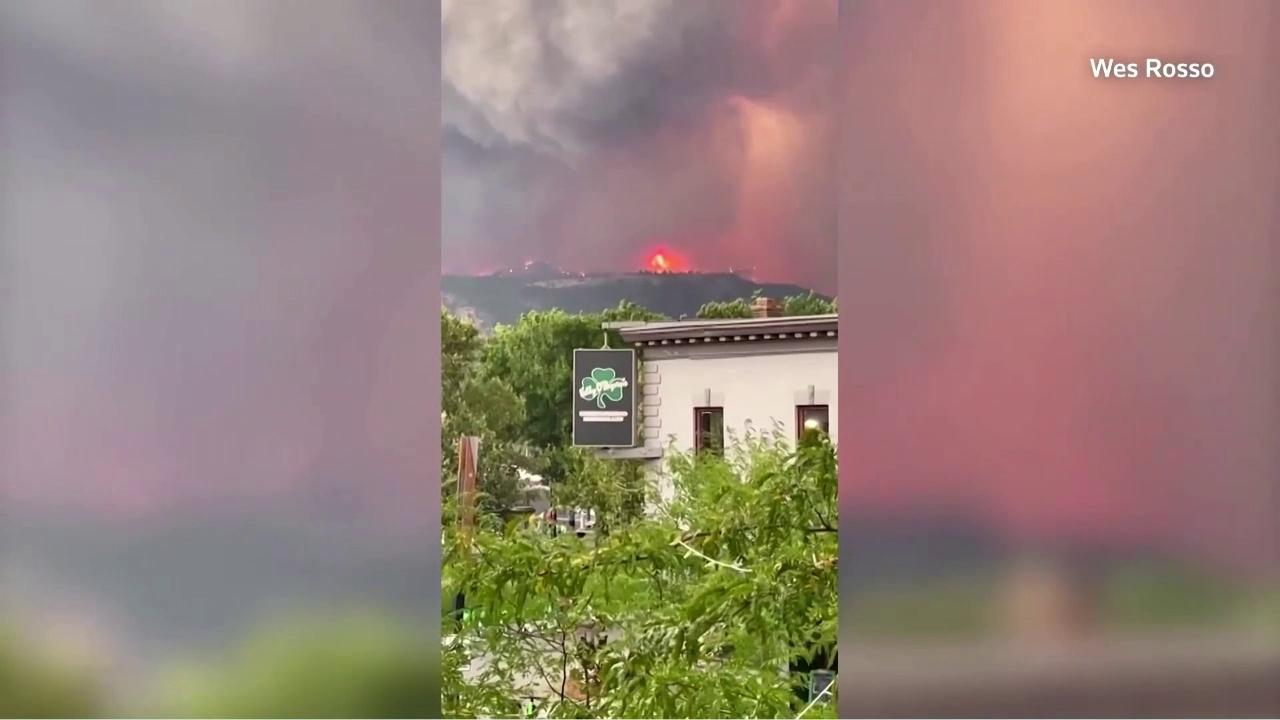fire: (640, 244, 689, 276), (524, 260, 536, 270), (729, 265, 733, 273), (581, 272, 587, 277), (509, 268, 513, 273)
smoke: (441, 0, 839, 304)
